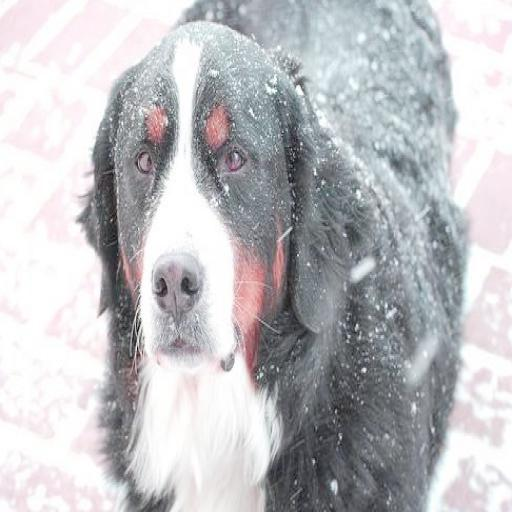dog_face: (85, 43, 334, 365)
